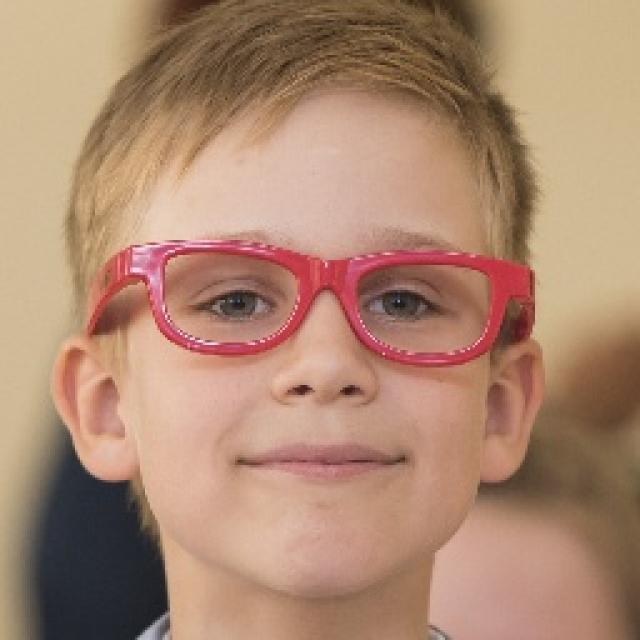earlobe: (79, 441, 141, 482), (477, 443, 525, 484)
eye: (365, 285, 446, 320), (193, 288, 279, 320)
nose: (272, 386, 376, 432)
wholeear: (52, 338, 141, 482), (478, 338, 546, 484)
